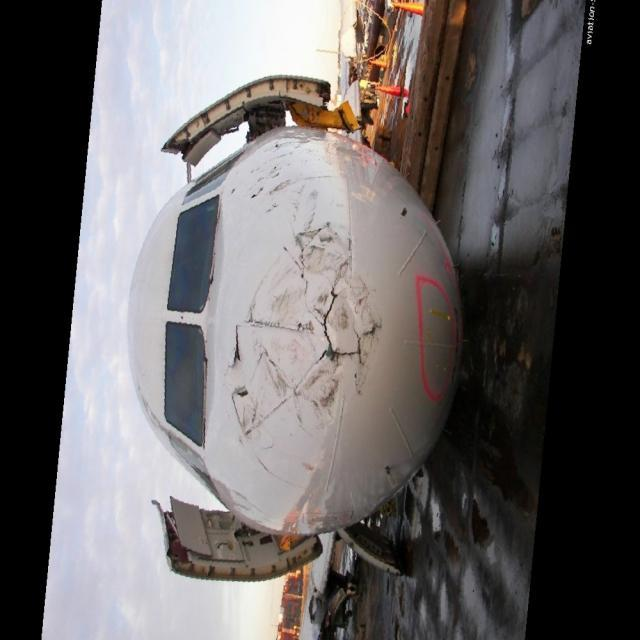crack: (226, 222, 386, 449)
